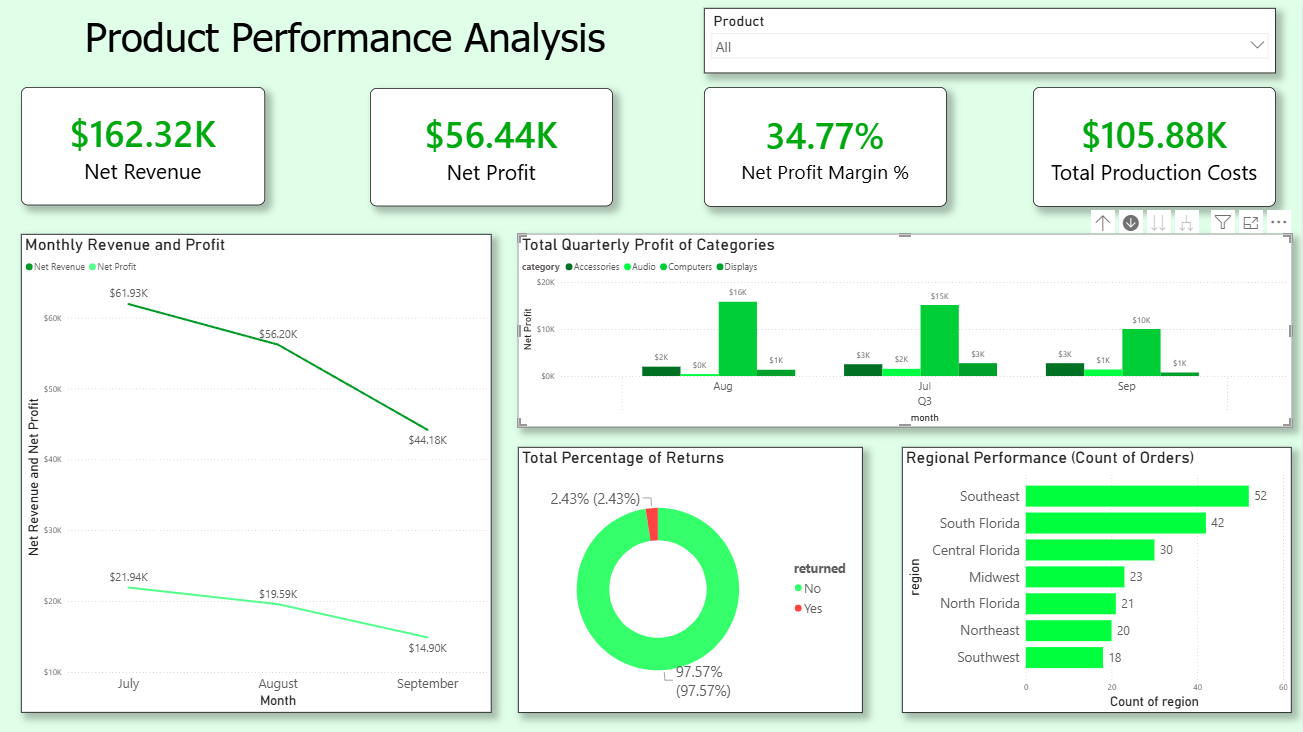

Layout of this report page (visuals, bound fields, positions):
{"tool":"powerbi","page":{"name":"Page 1","canvas":[1920,1080],"ordinal":0},"visuals":[{"type":"textbox","box":[117.6,14.7,788.2,89.7],"z":0},{"type":"cardVisual","fields":{"Data":["Sales_Data.Net Revenue"]},"box":[35.5,130.3,358.6,174.2],"z":1000},{"type":"cardVisual","fields":{"Data":["Sales_Data.Net Profit"]},"box":[548.1,131.9,356.9,174.2],"z":2000},{"type":"cardVisual","fields":{"Data":["Sales_Data.Net Profit Margin %"]},"box":[1040.4,130.3,356.9,175.9],"z":3000},{"type":"lineChart","title":"Monthly Revenue and Profit","fields":{"Category":["Sales_Data.order_date.Variation.Date Hierarchy.Month"],"Y":["Sales_Data.Net Revenue","Sales_Data.Net Profit"]},"box":[35.5,346.8,691.9,703.7],"z":4000},{"type":"cardVisual","fields":{"Data":["Sales_Data.Total Production Costs"]},"box":[1524.2,130.3,356.9,175.9],"z":5000},{"type":"barChart","title":"Regional Performance (Count of Orders)","fields":{"Category":["Sales_Data.region"],"Y":["CountNonNull(Sales_Data.region)"]},"box":[1331.3,659.7,573.5,390.8],"z":6000},{"type":"clusteredColumnChart","title":"Total Quarterly Profit of Categories","fields":{"Y":["Sales_Data.Net Profit"],"Category":["Sales_Data.quarter","Sales_Data.month"],"Series":["Sales_Data.category"]},"box":[766.3,346.8,1138.5,284.2],"z":7000},{"type":"donutChart","title":"Total Percentage of Returns","fields":{"Category":["Sales_Data.returned"],"Y":["CountNonNull(Sales_Data.returned)"]},"box":[766.3,659.7,507.5,390.8],"z":8000},{"type":"slicer","fields":{"Values":["Sales_Data.product"]},"box":[1040.4,15.2,840.7,96.4],"z":9000}]}

Visuals, with their boxes in screenshot pixels (x1, y1, x2, y2), scaled from the page's 1920x1080 canvas onto the 1303x732 screenshot:
textbox: [left=80, top=10, right=615, bottom=71]
cardVisual - Sales_Data.Net Revenue: [left=24, top=88, right=267, bottom=206]
cardVisual - Sales_Data.Net Profit: [left=372, top=89, right=614, bottom=207]
cardVisual - Sales_Data.Net Profit Margin %: [left=706, top=88, right=948, bottom=208]
"Monthly Revenue and Profit" lineChart: [left=24, top=235, right=494, bottom=712]
cardVisual - Sales_Data.Total Production Costs: [left=1034, top=88, right=1277, bottom=208]
"Regional Performance (Count of Orders)" barChart: [left=903, top=447, right=1293, bottom=712]
"Total Quarterly Profit of Categories" clusteredColumnChart: [left=520, top=235, right=1293, bottom=428]
"Total Percentage of Returns" donutChart: [left=520, top=447, right=864, bottom=712]
slicer - Sales_Data.product: [left=706, top=10, right=1277, bottom=76]
